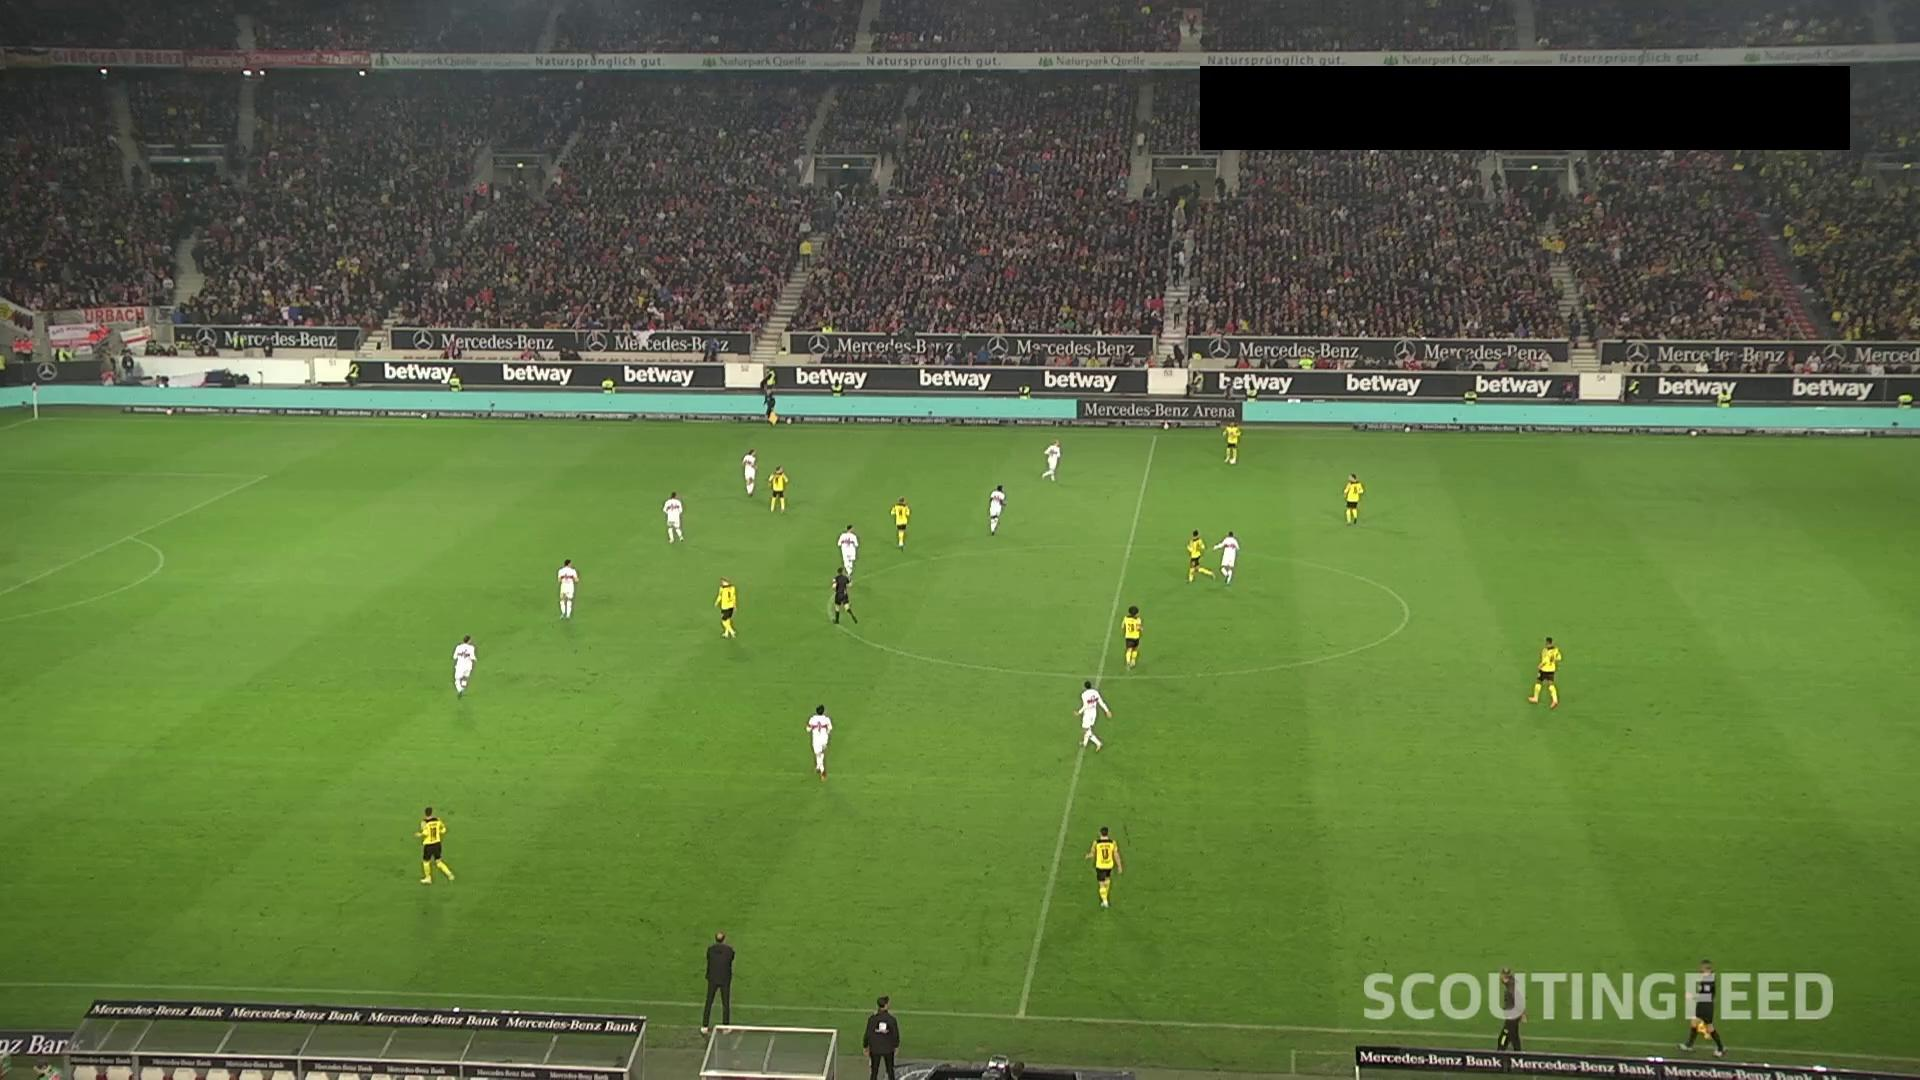Location-of-ball: (1218, 454, 1247, 472)
